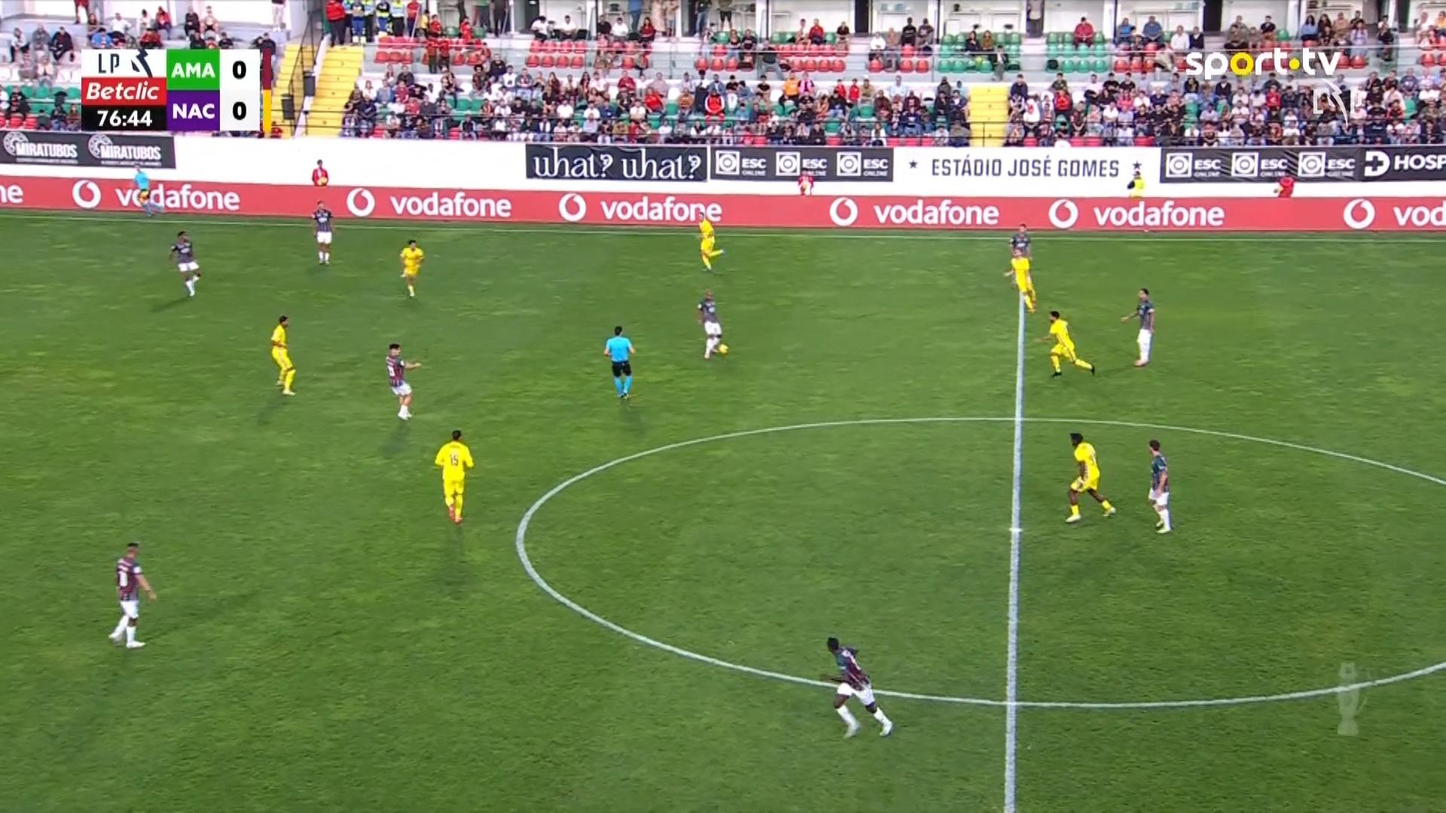ball: (717, 343, 728, 355), (139, 190, 149, 201)
player: (822, 635, 894, 738), (107, 540, 157, 648), (1063, 431, 1116, 522), (1034, 309, 1095, 377), (433, 428, 474, 523), (1005, 222, 1038, 313), (385, 342, 421, 420), (1120, 287, 1155, 367), (1146, 438, 1173, 533), (696, 288, 728, 360), (168, 230, 201, 297), (269, 314, 296, 395), (696, 209, 724, 273), (310, 199, 334, 265), (398, 239, 423, 298)
referee: (602, 324, 635, 400), (131, 163, 153, 215)
